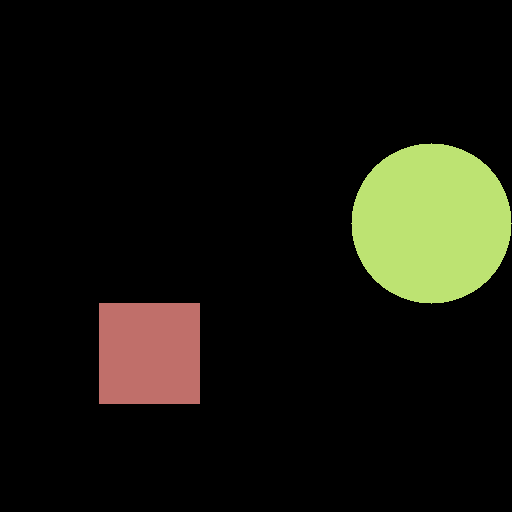circle: (351, 143, 511, 303)
square: (99, 303, 199, 403)
